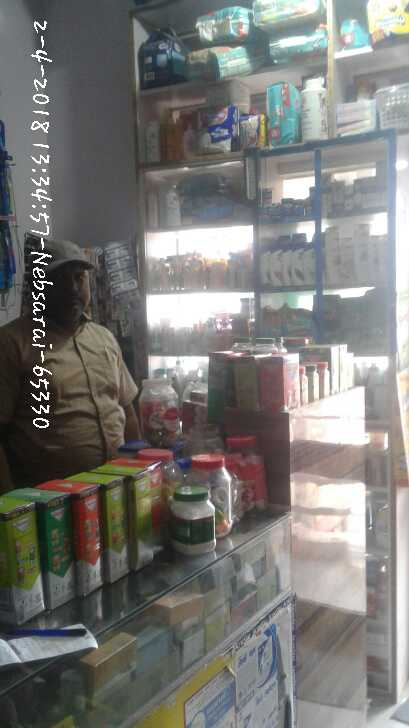vicks: (261, 185, 316, 215)
